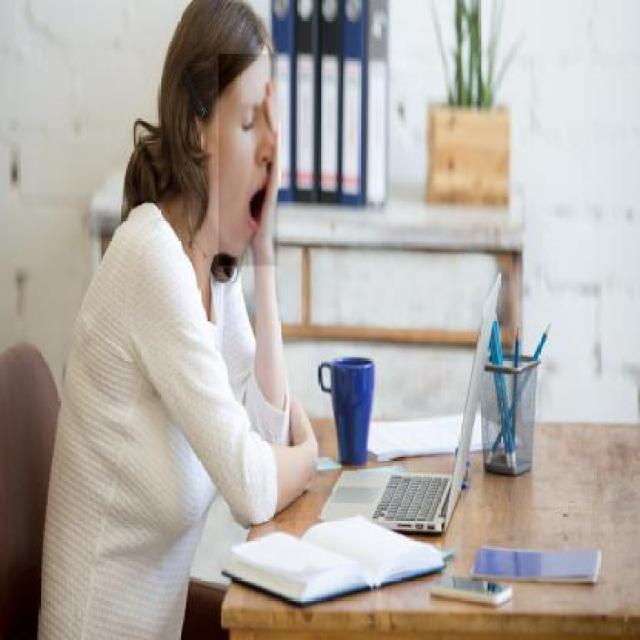sleepy: (218, 72, 285, 270)
